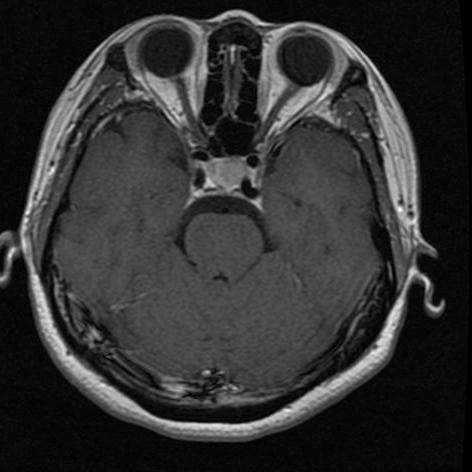Tumour-Pituitary: (185, 147, 268, 206)
